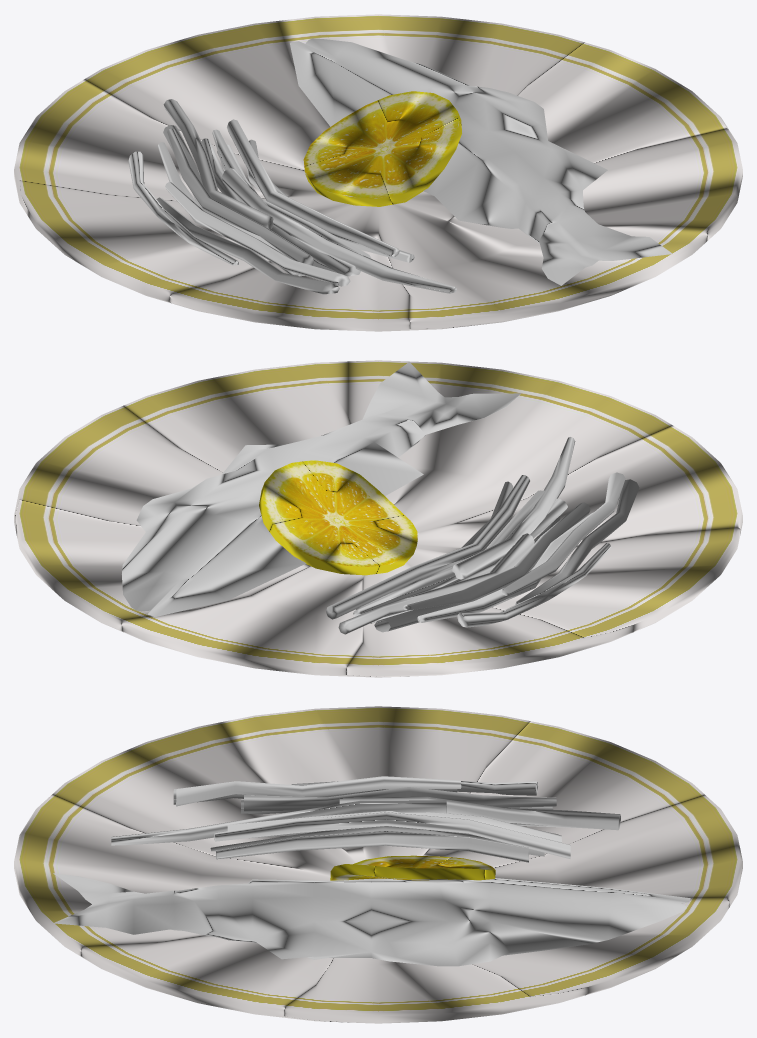
Rendered from fish_plate.fbx.
The picture shows the model from 3 angles, top to bottom: view 1: azimuth 30°, elevation 25°; view 2: azimuth 150°, elevation 25°; view 3: azimuth 270°, elevation 25°; orthographic projection.
Visible parts, largest first — view 1: FACESET_Dish, FACESET_Fish1, FACESET_Beans, FACESET_Lemon; view 2: FACESET_Dish, FACESET_Fish1, FACESET_Beans, FACESET_Lemon; view 3: FACESET_Dish, FACESET_Fish1, FACESET_Beans, FACESET_Lemon.
Part boxes in pixels (x1,y1,x2,y2): FACESET_Dish: (14, 14, 742, 331); FACESET_Fish1: (290, 38, 672, 285); FACESET_Beans: (128, 99, 456, 294); FACESET_Lemon: (303, 91, 461, 206); FACESET_Dish: (14, 360, 742, 677); FACESET_Fish1: (122, 362, 520, 616); FACESET_Beans: (326, 437, 639, 634); FACESET_Lemon: (259, 460, 418, 575); FACESET_Dish: (14, 706, 742, 1023); FACESET_Fish1: (53, 873, 690, 966); FACESET_Beans: (111, 776, 620, 862); FACESET_Lemon: (330, 855, 495, 880).
Size of the model in its own units: 8.87 by 1.14 by 8.87.
